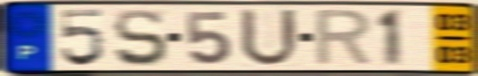1: (376, 7, 409, 70)
5: (59, 7, 107, 69), (183, 10, 234, 66)
R: (312, 7, 376, 69)
S: (111, 7, 171, 69)
U: (238, 6, 302, 69)
